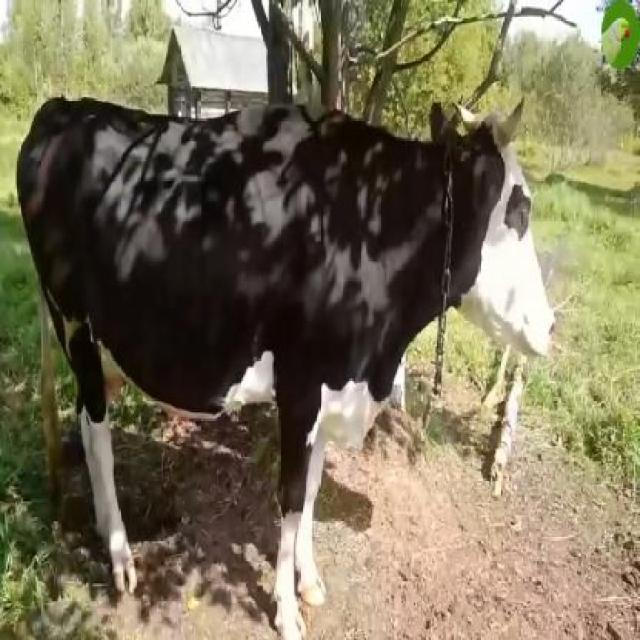Cow: (15, 96, 554, 638)
